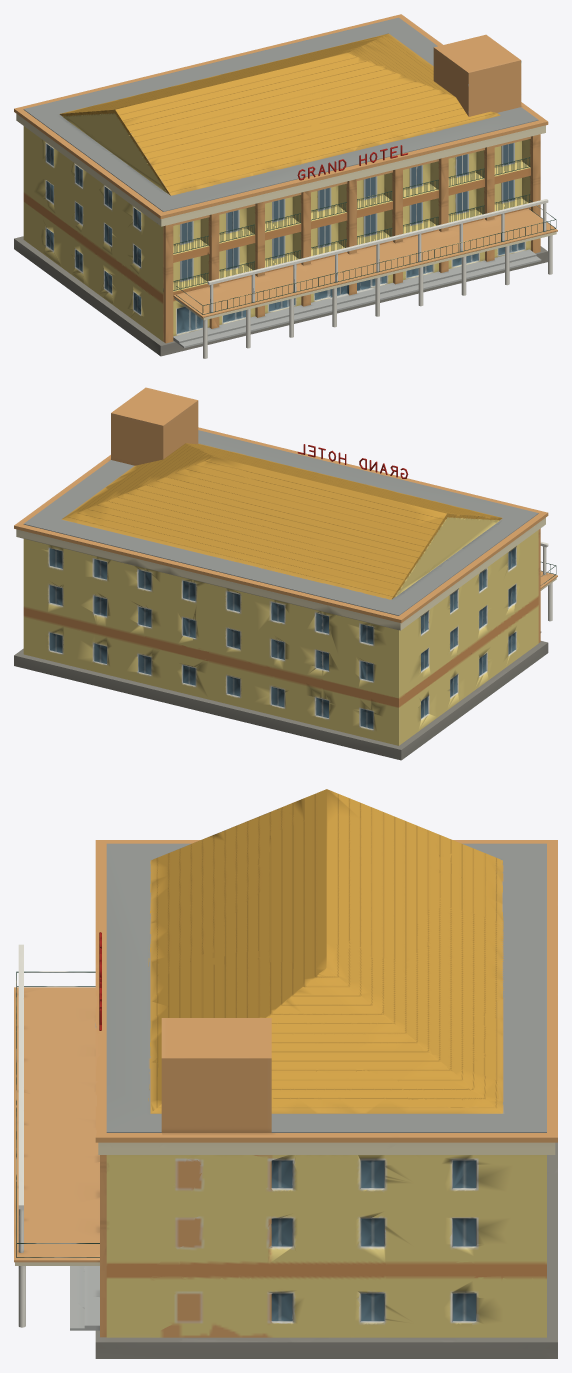
The model's file is khach_san_grand.glb.
3 renders of one model, top to bottom at view 1: azimuth 30°, elevation 25°; view 2: azimuth 150°, elevation 25°; view 3: azimuth 270°, elevation 25°, orthographic. The views are drawn at different scales.
Parts seen in each view (by area): view 1: khach_san_grand; view 2: khach_san_grand; view 3: khach_san_grand.
Part boxes in pixels (x1=…): khach_san_grand: x1=14, y1=14, x2=557, y2=358; khach_san_grand: x1=14, y1=387, x2=557, y2=760; khach_san_grand: x1=14, y1=789, x2=557, y2=1358.
Size of the model in its own units: 38.4 by 17.8 by 29.65.
4 materials, 4 textured.
